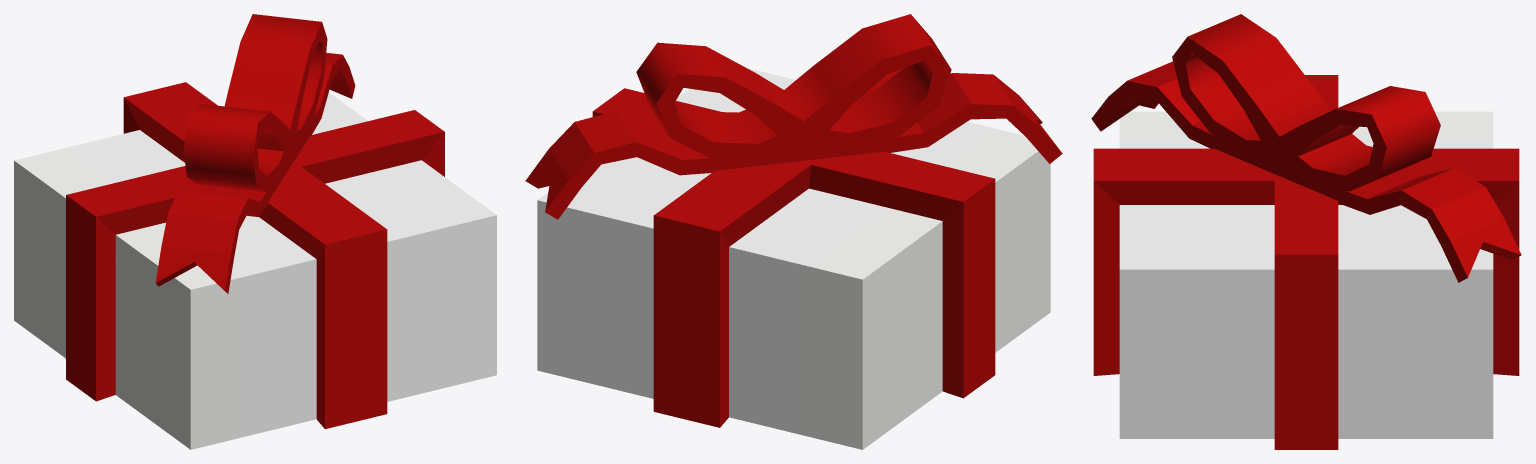
The model's file is Presents12.fbx.
The picture shows the model from 3 angles, left to right: view 1: azimuth 30°, elevation 25°; view 2: azimuth 150°, elevation 25°; view 3: azimuth 270°, elevation 25°; orthographic projection. The views are drawn at different scales.
Parts seen in each view (by area): view 1: Present12; view 2: Present12; view 3: Present12.
Part boxes in pixels (x1=…): Present12: x1=14, y1=14, x2=496, y2=449; Present12: x1=525, y1=14, x2=1062, y2=449; Present12: x1=1091, y1=14, x2=1521, y2=449.
Bounding box in the file's own units: 46.08 × 34.94 × 46.08.
